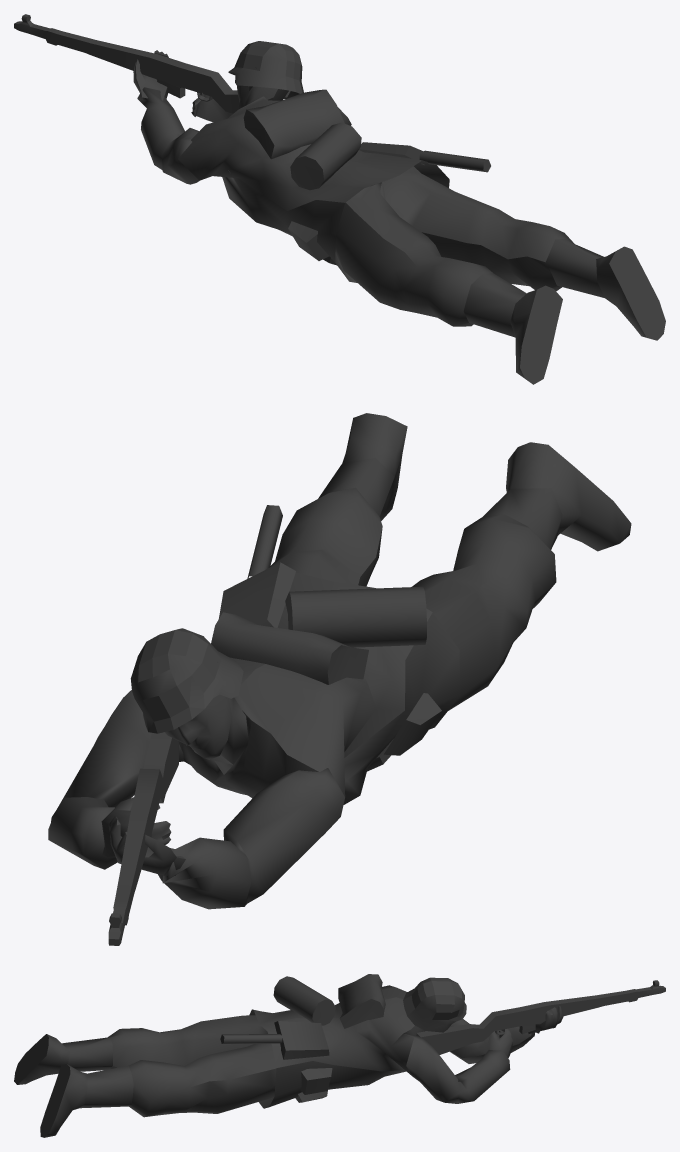
Rendered from de_fucile2_prono.glb.
The picture shows the model from 3 angles, top to bottom: view 1: azimuth 30°, elevation 25°; view 2: azimuth 150°, elevation 25°; view 3: azimuth 270°, elevation 25°; orthographic projection. The views are drawn at different scales.
Visible parts, largest first — view 1: polySurface19.001_2; view 2: polySurface19.001_2; view 3: polySurface19.001_2.
Part boxes in pixels (left/top/right/bottom): polySurface19.001_2: left=14, top=14, right=665, bottom=384; polySurface19.001_2: left=48, top=413, right=631, bottom=945; polySurface19.001_2: left=14, top=974, right=665, bottom=1137.
Size of the model in its own units: 0.2543 by 0.1494 by 0.7372.
1 material, 1 textured.
